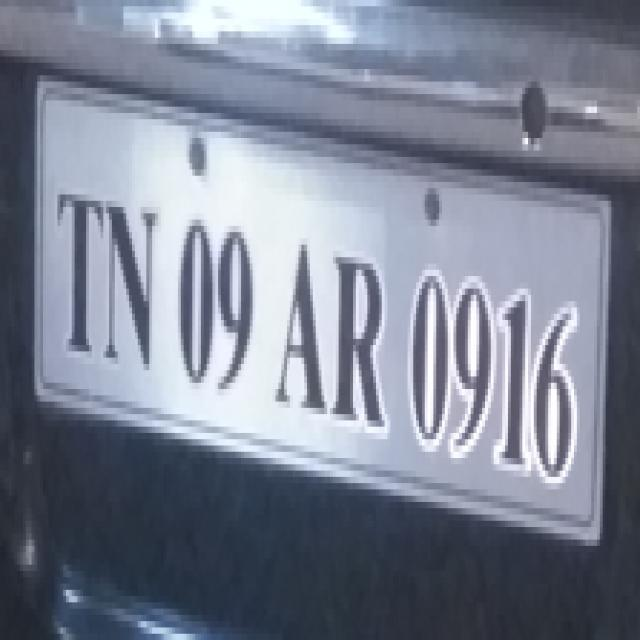0: (398, 257, 451, 466), (175, 212, 216, 384)
1: (495, 284, 533, 480)
6: (534, 293, 584, 497)
9: (448, 280, 496, 475), (217, 219, 256, 415)
A: (273, 233, 331, 433)
N: (105, 198, 158, 372)
R: (334, 229, 402, 444)
T: (44, 163, 102, 361)
